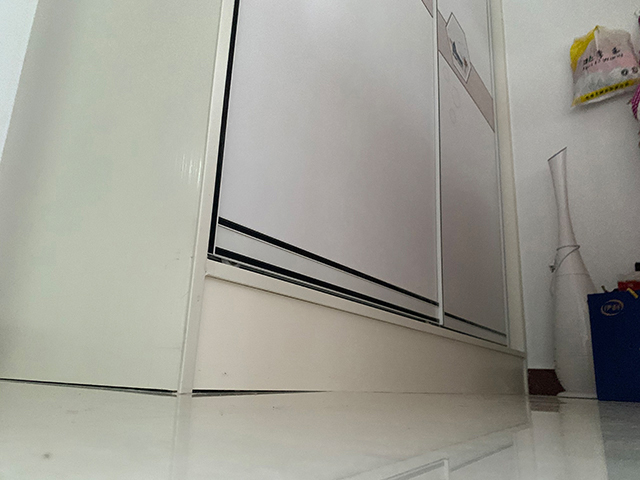cabinet: (1, 1, 531, 395)
